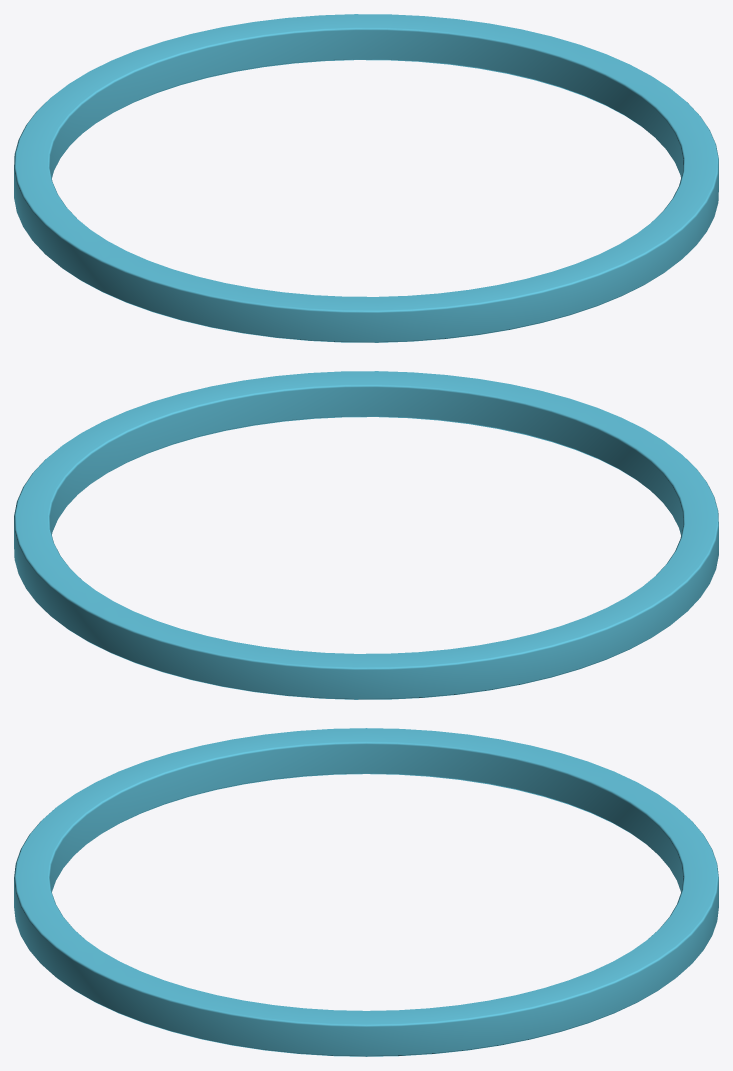
3 renders of one model, top to bottom at view 1: azimuth 30°, elevation 25°; view 2: azimuth 150°, elevation 25°; view 3: azimuth 270°, elevation 25°, orthographic.
Parts seen in each view (by area): view 1: seal_body; view 2: seal_body; view 3: seal_body.
Boxes of the visible parts, x1,y1,x2,y2 form: seal_body: (14,14,718,342); seal_body: (14,371,718,699); seal_body: (14,728,718,1056).
Size of the model in its own units: 0.1556 by 0.00793 by 0.1556.
